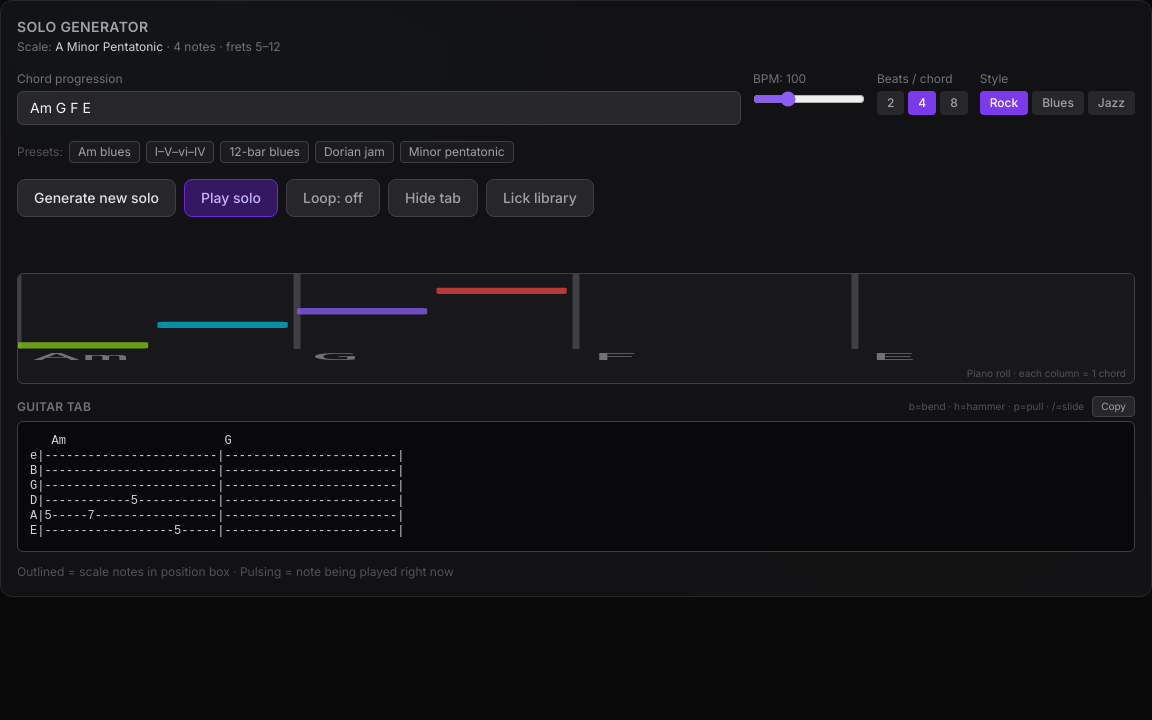
Test case: SoloGenerator › shows an error when the chord input is empty on generate
Clear the field at (379, 108), box [17, 91, 741, 125]
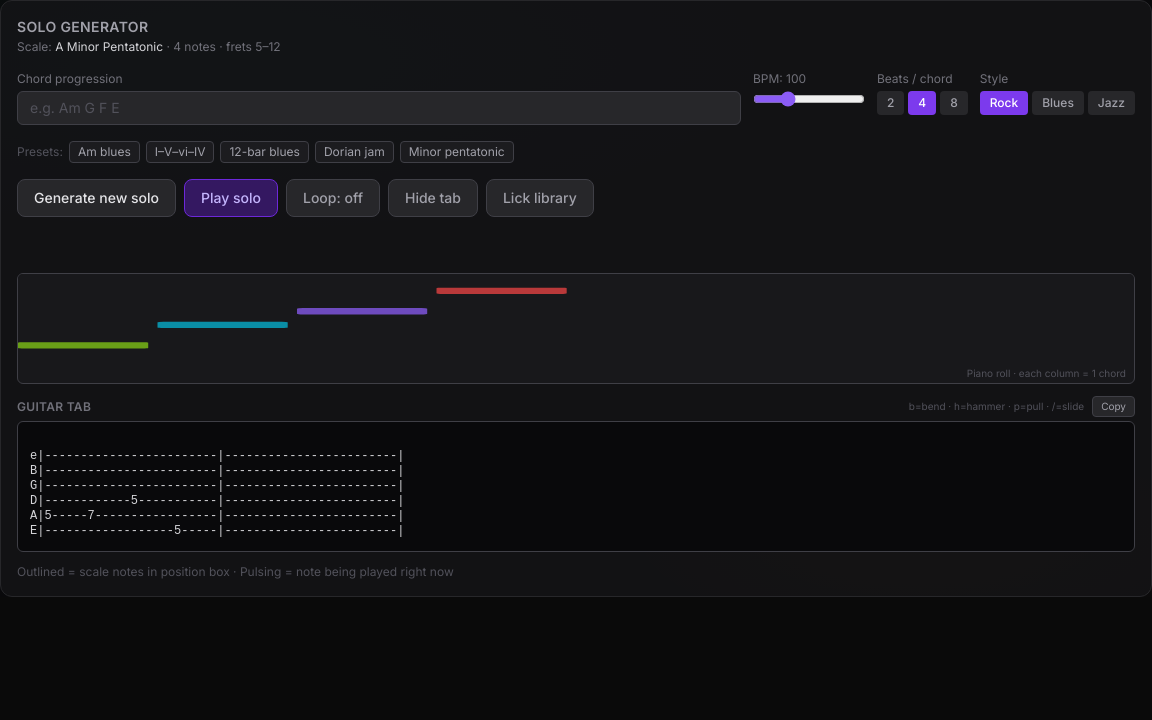
// Click generate — need to find the generate button
Click the button "Generate new solo" at (96, 198), box [17, 179, 176, 217]
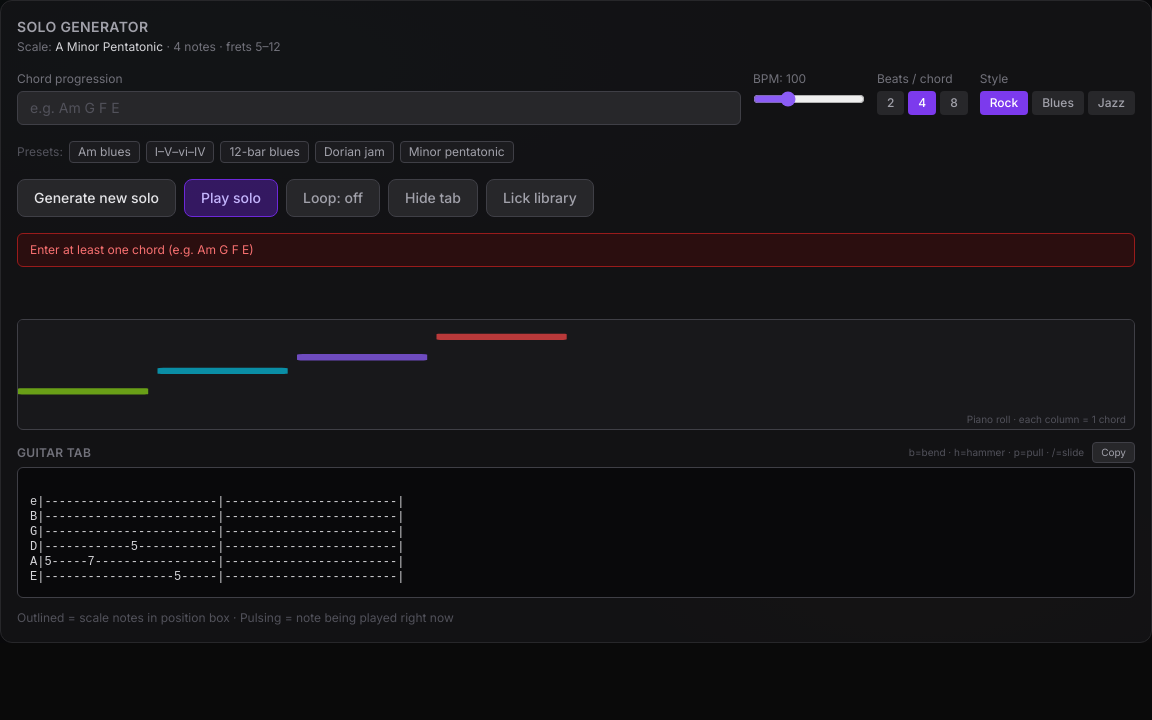
Now the text "Enter at least one chord (e.g. Am G F E)" is shown, box [17, 233, 1135, 267]
